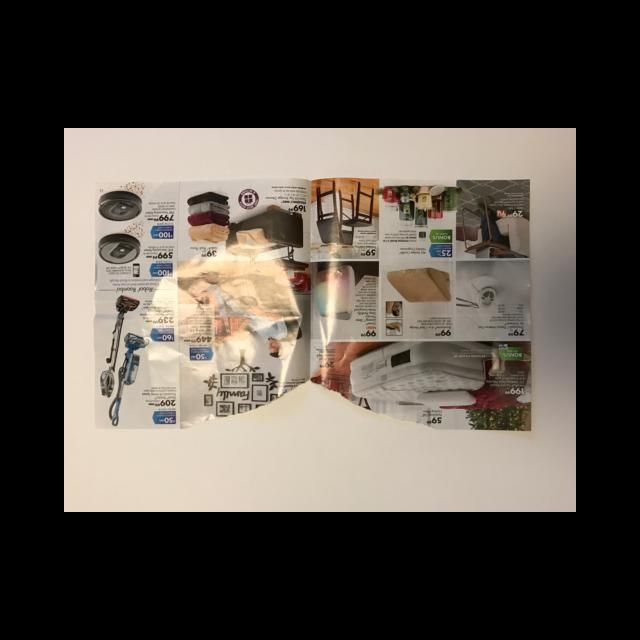paper: (93, 176, 534, 440)
